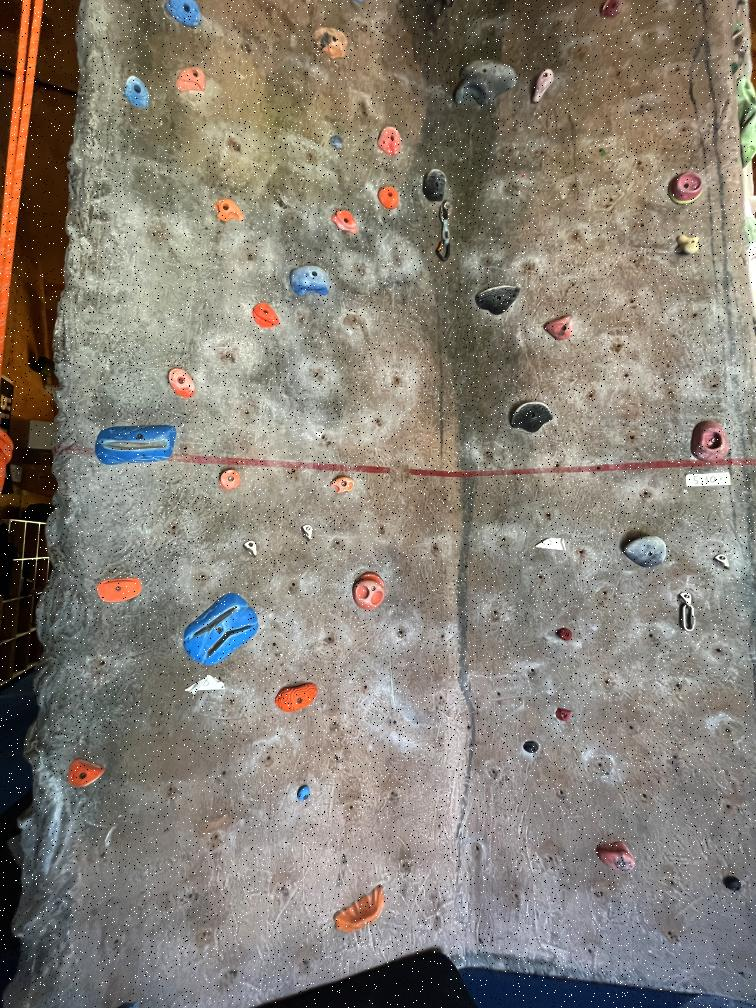Crimp: (65, 749, 109, 797), (161, 0, 206, 30)
Edges: (93, 575, 146, 607)
Foothold: (550, 702, 580, 727), (724, 871, 746, 896), (327, 134, 349, 157), (520, 740, 544, 757), (295, 782, 312, 802), (559, 626, 574, 644)
Jug: (452, 49, 521, 115), (508, 394, 556, 438), (114, 74, 160, 118), (474, 280, 520, 320), (287, 264, 338, 299), (622, 533, 671, 568), (596, 838, 642, 875), (210, 193, 250, 234), (544, 314, 586, 346), (374, 120, 405, 163), (424, 163, 449, 203), (330, 471, 358, 501), (215, 468, 246, 492)
Pinch: (243, 298, 289, 336), (165, 361, 202, 404), (326, 205, 362, 242), (532, 68, 562, 102), (673, 228, 702, 262)
Pocket: (180, 591, 259, 668), (93, 420, 178, 466), (662, 159, 709, 210), (349, 567, 390, 613), (690, 419, 728, 461)
Sloper: (333, 880, 383, 938), (270, 678, 320, 716), (307, 25, 356, 61), (170, 62, 210, 96), (376, 183, 401, 214)
